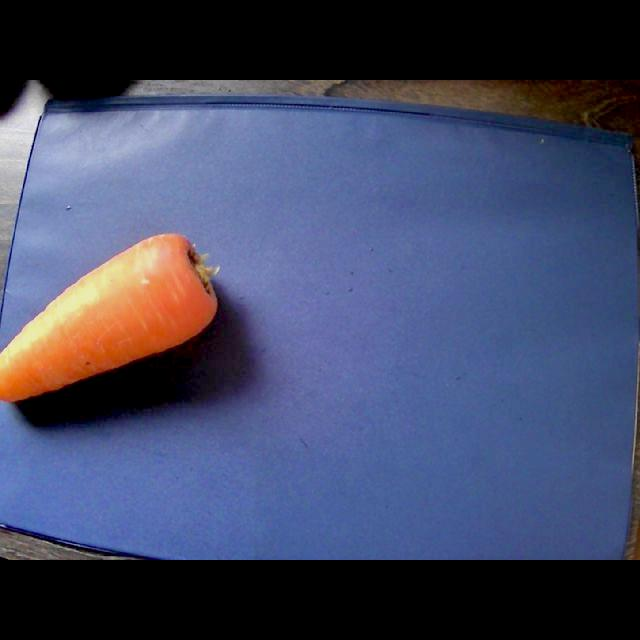zanahoria: (1, 234, 217, 400)
